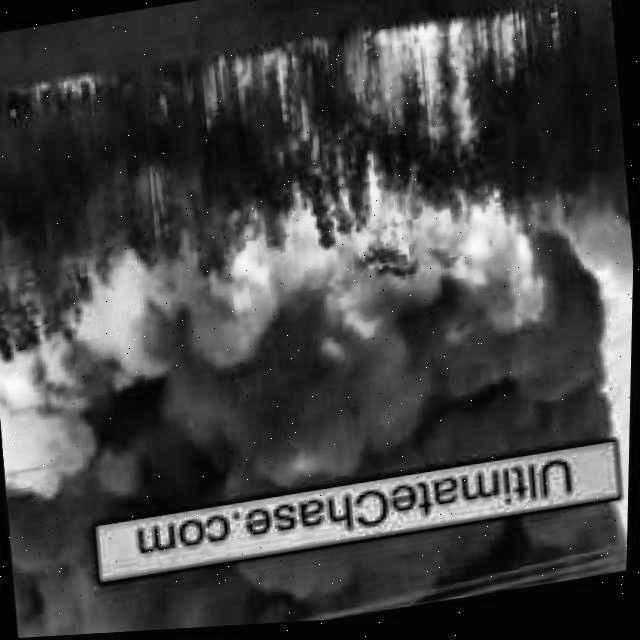Fire: (188, 5, 566, 399), (28, 73, 106, 109)
Smoke: (202, 296, 626, 517), (16, 502, 631, 639), (0, 246, 220, 525)
